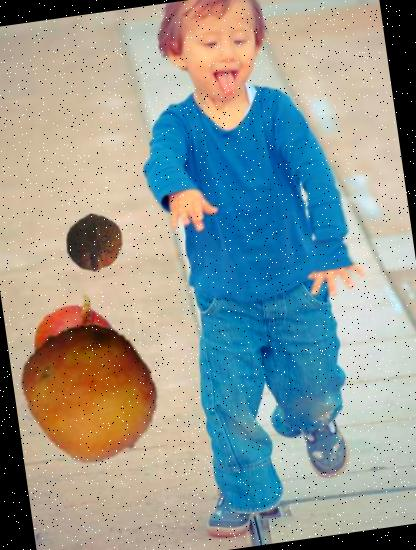Onion: (28, 298, 125, 394)
Peach: (13, 314, 170, 470)
Walnut: (61, 210, 128, 276)
